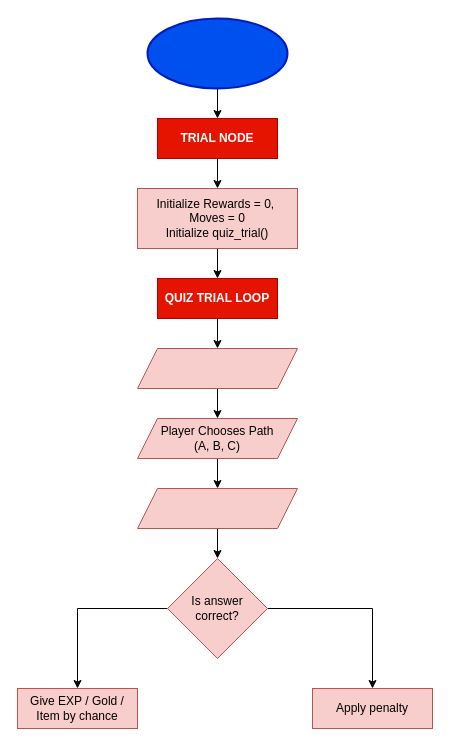
This 450x746 diagram has some shape labels left out. Here are the shapes that lost their labels. From the top down, the centre of each, then its label:
the point at 217,53: START
the point at 217,368: Display Maze Map
the point at 217,508: Display Quiz Question Input Answer
